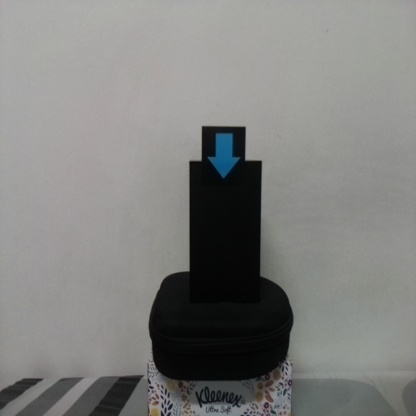id_2: (202, 126, 246, 188)
